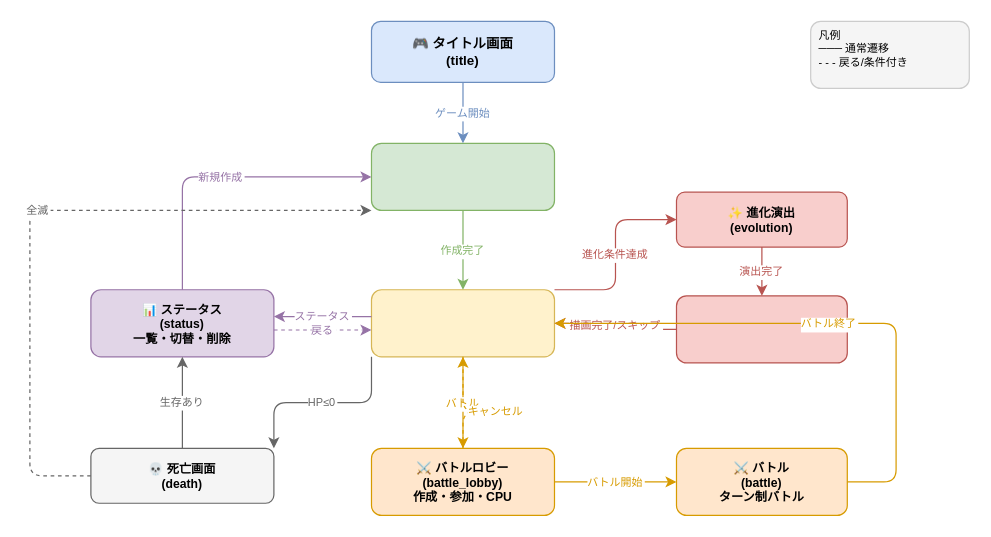
The diagram is 991 pixels wide and 537 high, and some of its shapes have lost their labels. The shapes that lost their labels are listed below. From the top down, each one's centre as x and y in pixels, then its label:
At [462,176]: "🥚 セットアップ (setup) 名前→タイプ選択".
At [462,323]: "🏠 メインゲーム (main) 育成・ステータス表示".
At [761,329]: "🎨 お絵描き (drawing) 64x64ピクセルアート".
